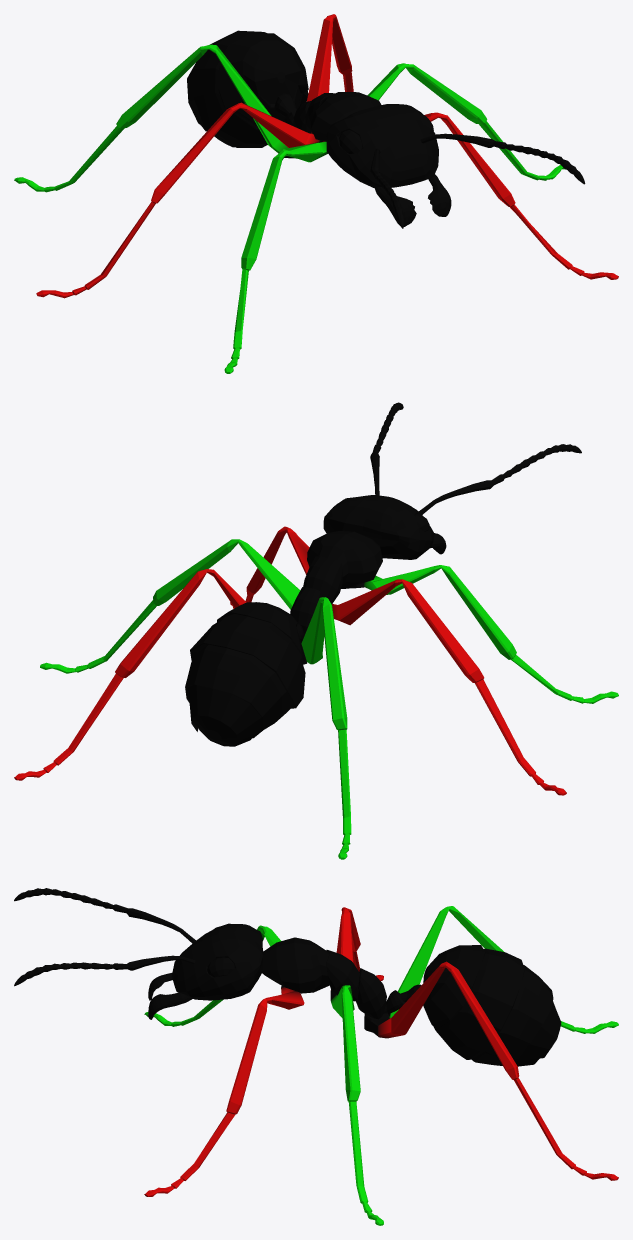
Rendered from MDL_Ant_FBX.fbx.
The picture shows the model from 3 angles, top to bottom: view 1: azimuth 30°, elevation 25°; view 2: azimuth 150°, elevation 25°; view 3: azimuth 270°, elevation 25°; orthographic projection. The views are drawn at different scales.
Parts seen in each view (by area): view 1: MDL_Ant:Ant; view 2: MDL_Ant:Ant; view 3: MDL_Ant:Ant.
Part boxes in pixels (x1,y1,x2,y2): MDL_Ant:Ant: (14, 14, 618, 373); MDL_Ant:Ant: (14, 402, 618, 859); MDL_Ant:Ant: (14, 888, 618, 1225).
Bounding box in the file's own units: 1.51 × 0.5179 × 1.55.
